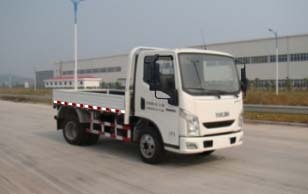smalltruck: (47, 35, 251, 169)
